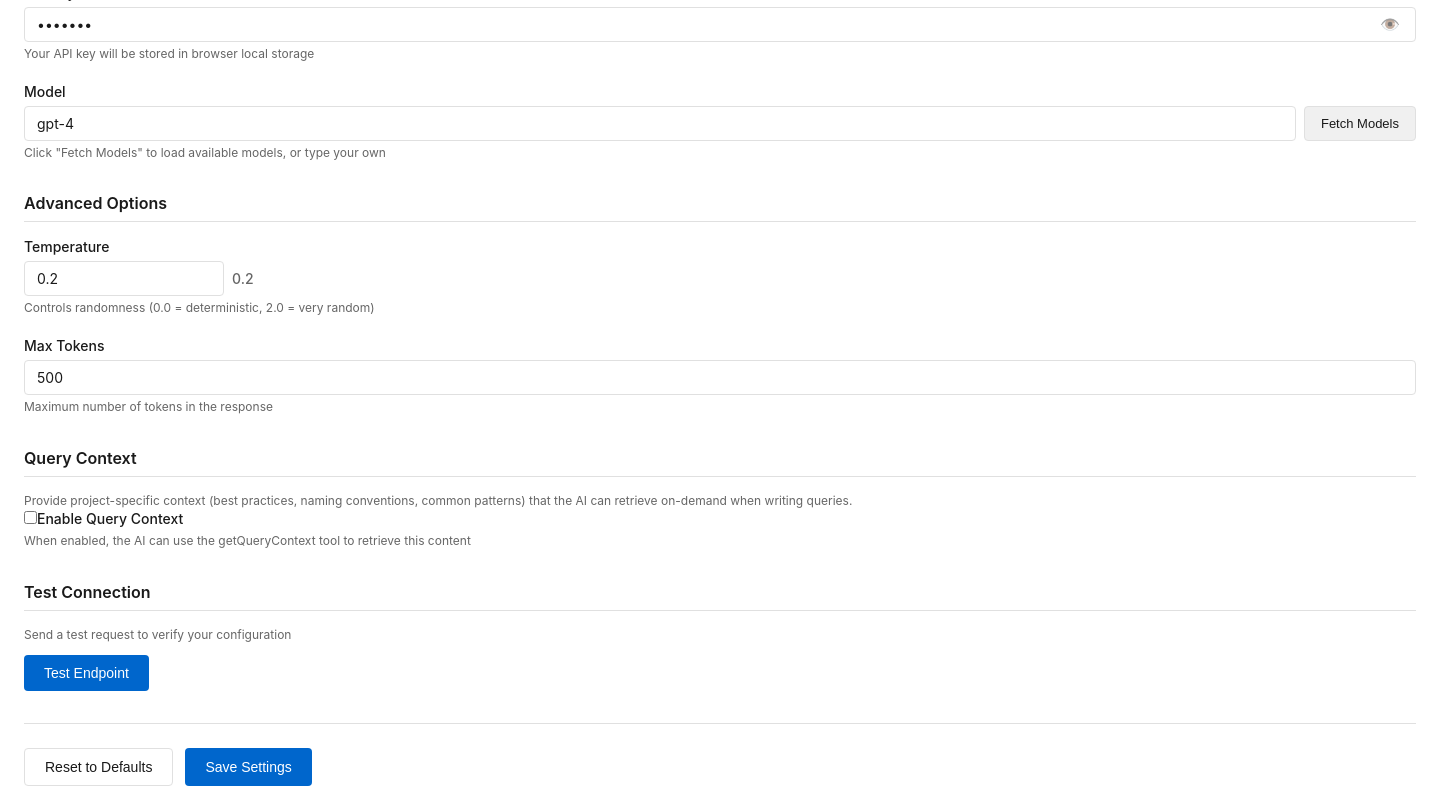
Test: AISettingsView › tests the connection and shows success details
(page scrolled)
Click the button with class "btn-test": (86,673) [24,655,149,691]
(page scrolled)
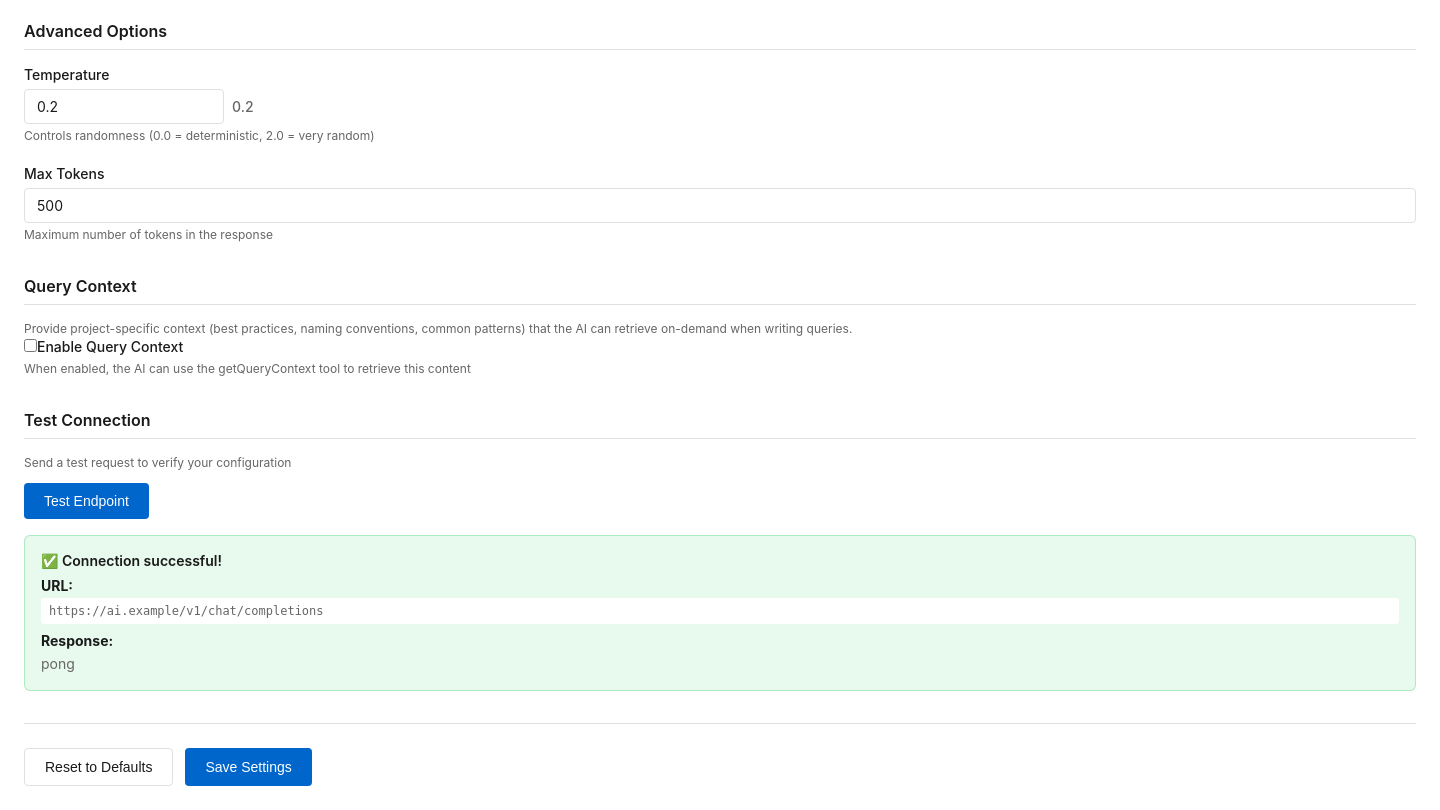
Expected: the element with class "test-result" shows "Connection successful!", [41,552,222,569]
Expected: the element with class "test-result" shows "pong", [41,655,75,672]
Expected: the element with class "test-result" shows "https://ai.example/v1/chat/completions", [49,604,324,618]
